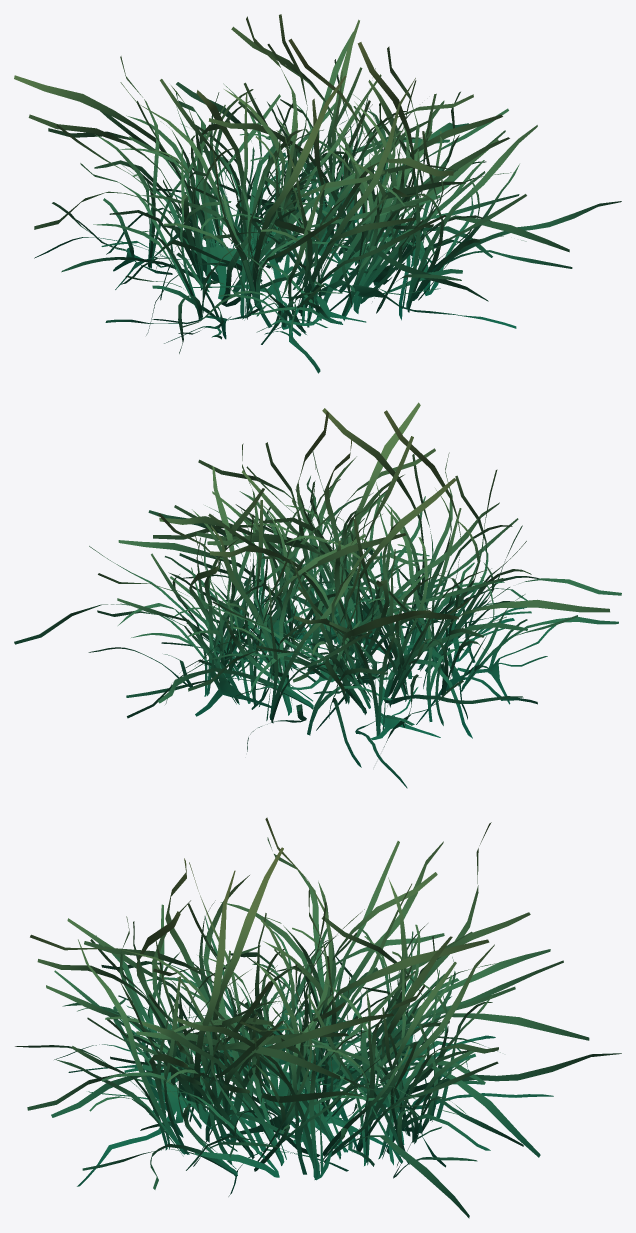
File: grass_medium_01_2.glb
3 views of the same model, one above another, from view 1: azimuth 30°, elevation 25°; view 2: azimuth 150°, elevation 25°; view 3: azimuth 270°, elevation 25° (orthographic). The views are drawn at different scales.
Visible parts, largest first — view 1: grass_medium_01_large_c_LOD0; view 2: grass_medium_01_large_c_LOD0; view 3: grass_medium_01_large_c_LOD0.
Boxes of the visible parts, x1,y1,x2,y2 form: grass_medium_01_large_c_LOD0: (14,14,621,373); grass_medium_01_large_c_LOD0: (14,402,621,788); grass_medium_01_large_c_LOD0: (15,817,621,1218).
Bounding box in the file's own units: 0.2788 × 0.1423 × 0.2551.
